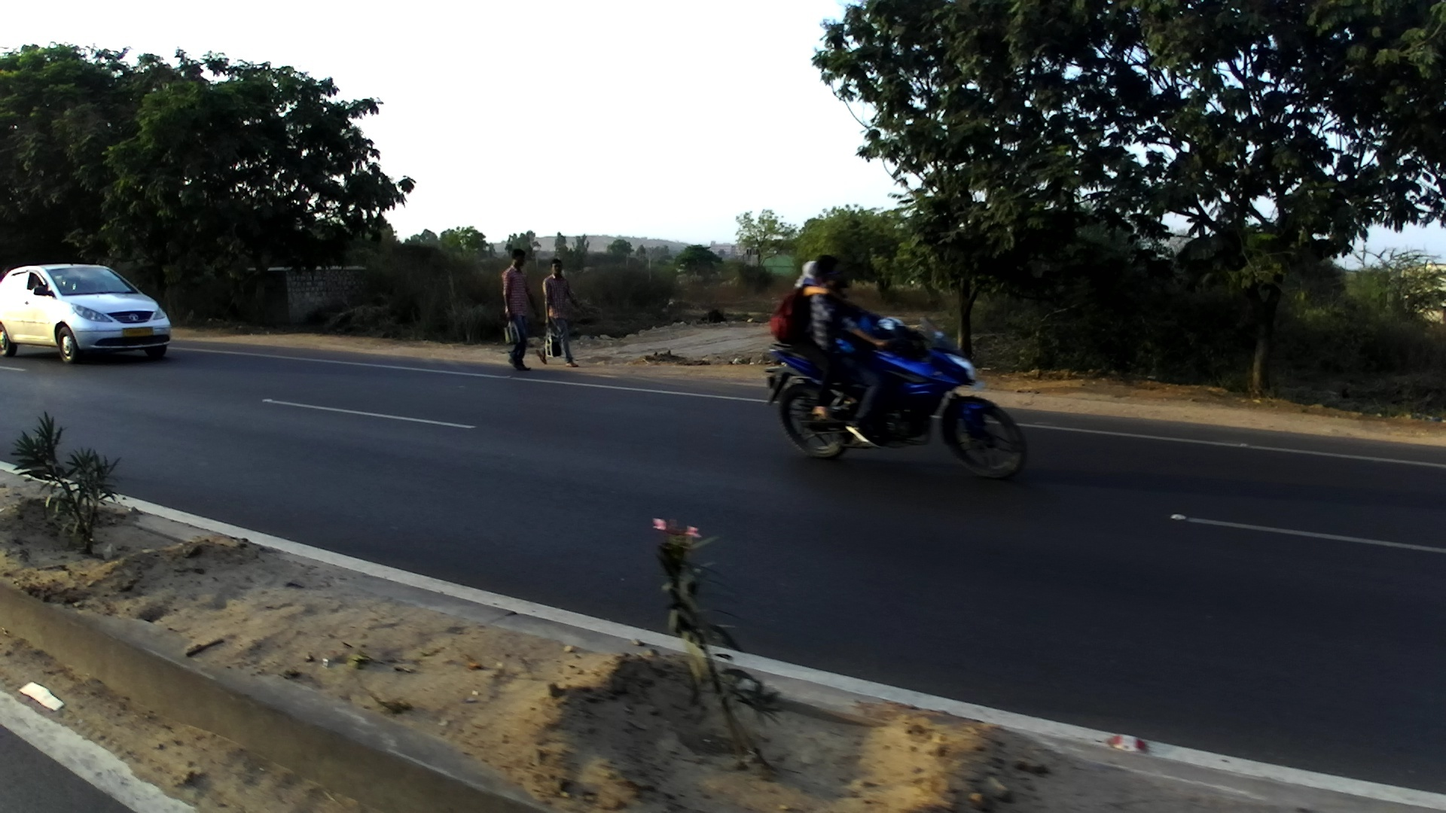car: (2, 260, 170, 365)
motorcycle: (762, 315, 1029, 479)
person: (493, 248, 538, 372), (533, 258, 581, 367)
rider: (804, 254, 908, 447), (767, 258, 858, 423)
